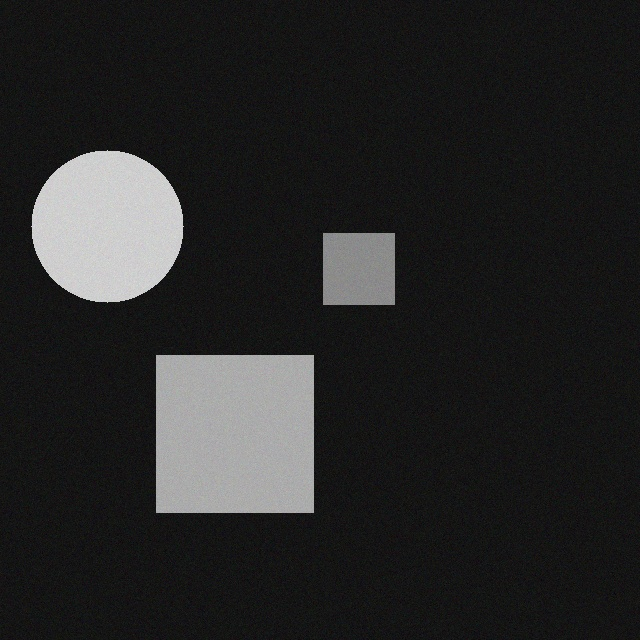circle: (18, 143, 170, 295)
square: (143, 348, 300, 505), (310, 226, 381, 297)
